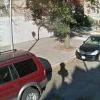Car: (72, 27, 99, 74)
